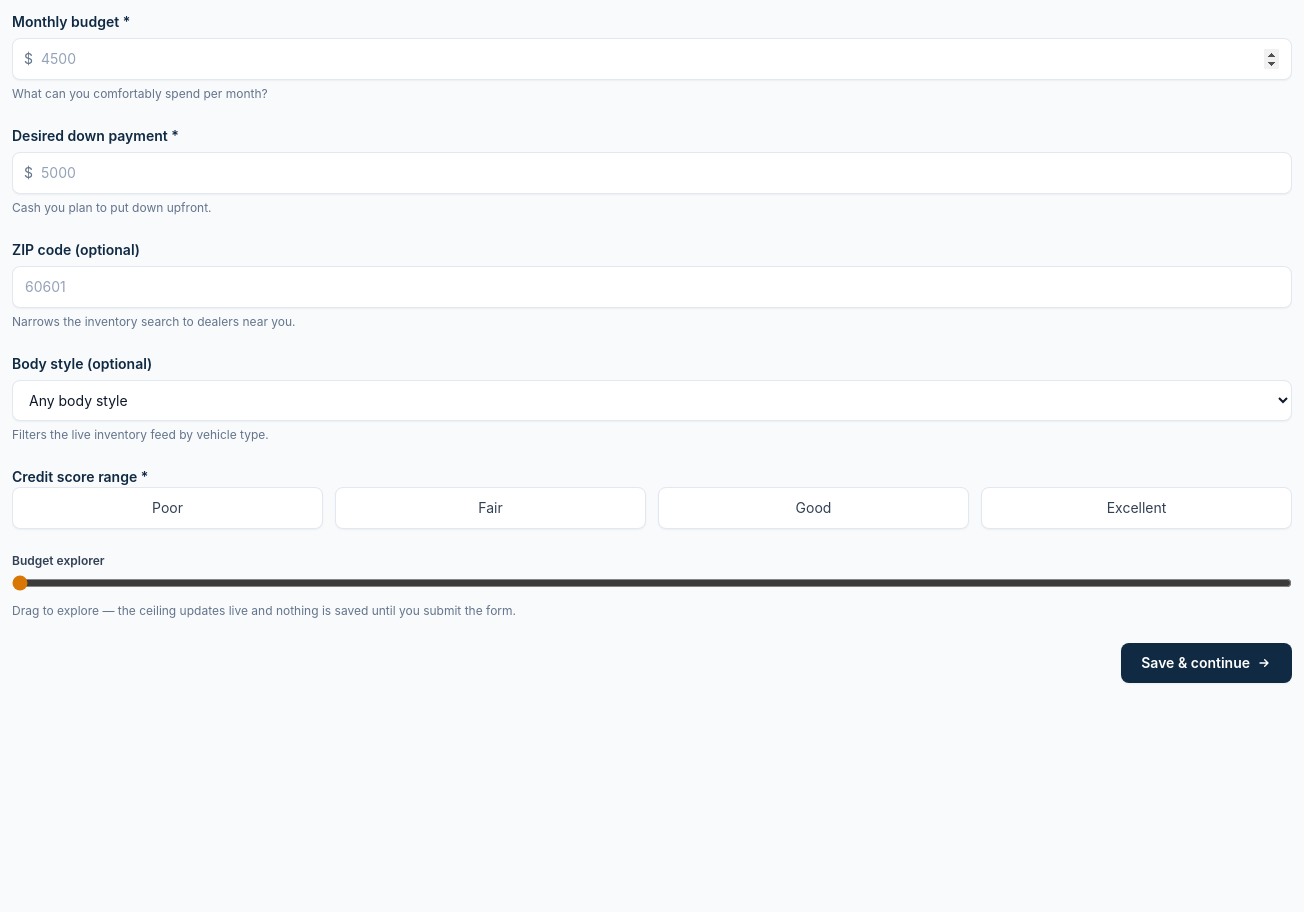
Scenario: IntakeForm › shows validation errors when submitted empty
Click the button "Save & continue": (1207, 663) [1121,643,1292,683]
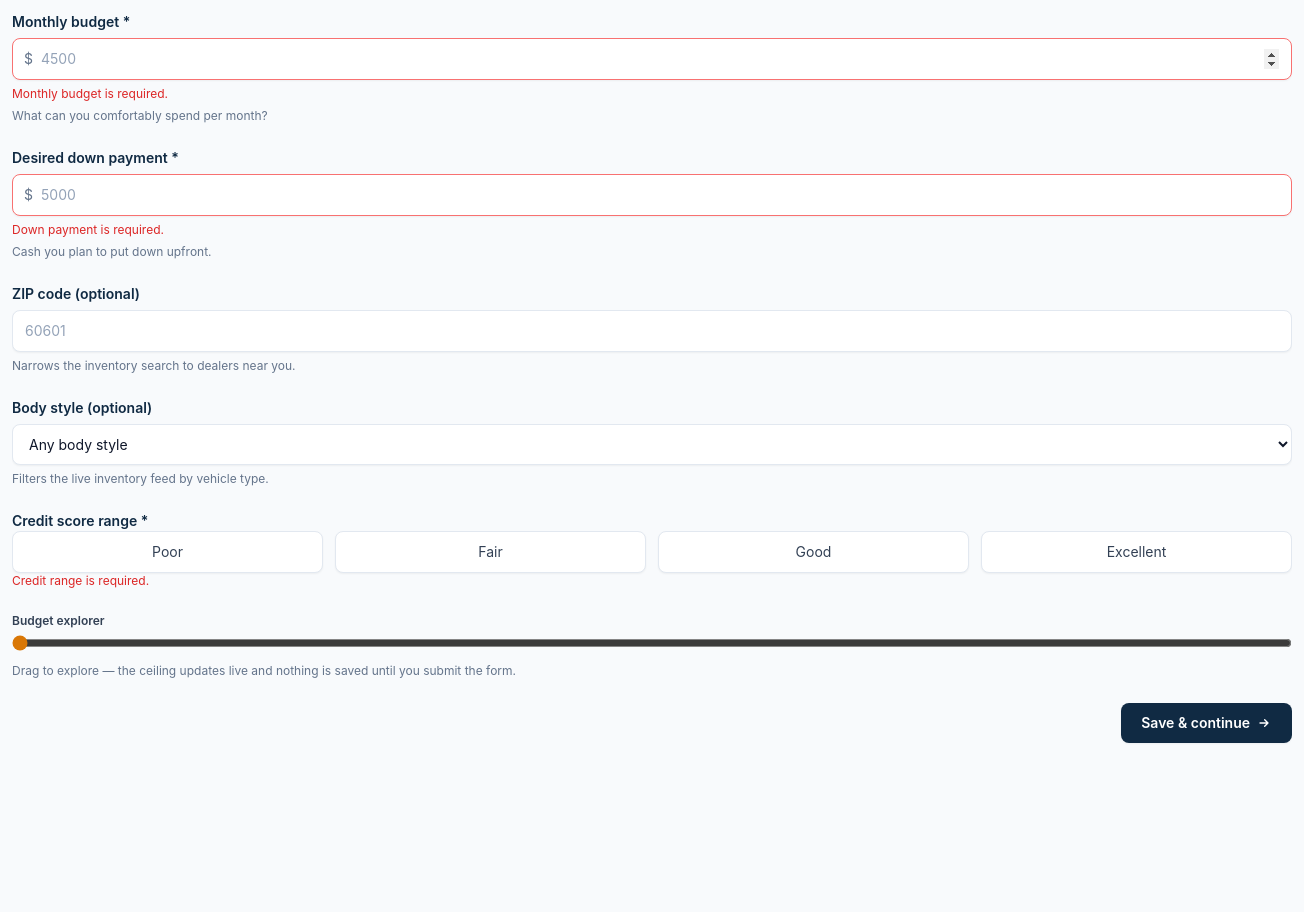
Expected: the text "Monthly budget is required." is shown, [12,86,168,101]
Expected: the text "Down payment is required." is shown, [12,222,164,237]
Expected: the text "Credit range is required." is shown, [12,573,149,588]
